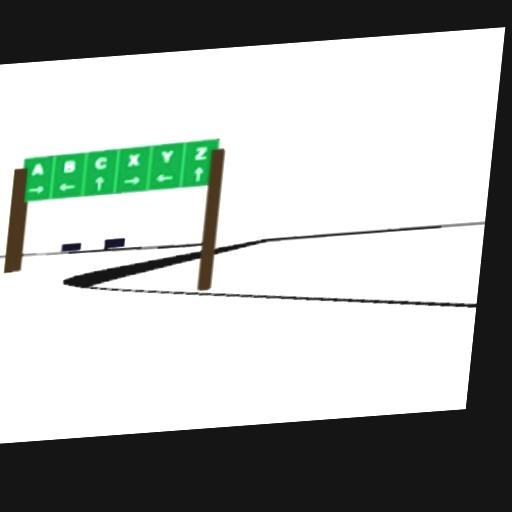A: (30, 162, 46, 177)
B: (63, 159, 77, 174)
C: (94, 156, 108, 171)
Left: (59, 181, 77, 194), (155, 173, 175, 184)
Right: (27, 185, 45, 197), (124, 175, 141, 187)
Straight: (192, 165, 204, 183), (95, 175, 105, 191)
X: (127, 152, 142, 168)
Y: (160, 149, 175, 163)
Z: (194, 146, 209, 161)
